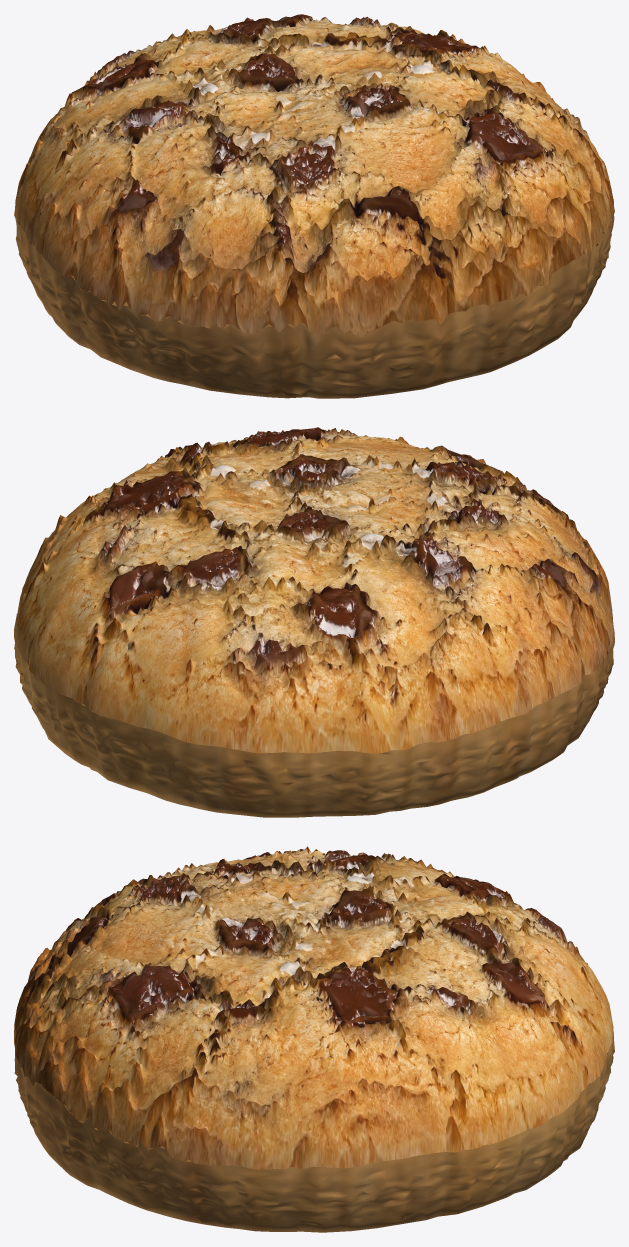
The model's file is cookie-classic.glb.
3 renders of one model, top to bottom at view 1: azimuth 30°, elevation 25°; view 2: azimuth 150°, elevation 25°; view 3: azimuth 270°, elevation 25°, orthographic.
Parts seen in each view (by area): view 1: base | V3 | Photographic sculpt | classic.001, base | V3 | Craggy baked edge | classic.001; view 2: base | V3 | Photographic sculpt | classic.001, base | V3 | Craggy baked edge | classic.001; view 3: base | V3 | Photographic sculpt | classic.001, base | V3 | Craggy baked edge | classic.001.
Part boxes in pixels (left/top/right/bottom): base | V3 | Photographic sculpt | classic.001: left=15, top=14, right=613, bottom=337; base | V3 | Craggy baked edge | classic.001: left=14, top=87, right=614, bottom=398; base | V3 | Photographic sculpt | classic.001: left=14, top=427, right=614, bottom=753; base | V3 | Craggy baked edge | classic.001: left=14, top=500, right=614, bottom=817; base | V3 | Photographic sculpt | classic.001: left=14, top=846, right=613, bottom=1169; base | V3 | Craggy baked edge | classic.001: left=14, top=918, right=614, bottom=1232.
Bounding box in the file's own units: 0.0687 × 0.0258 × 0.0689.
2 materials, 2 textured.
